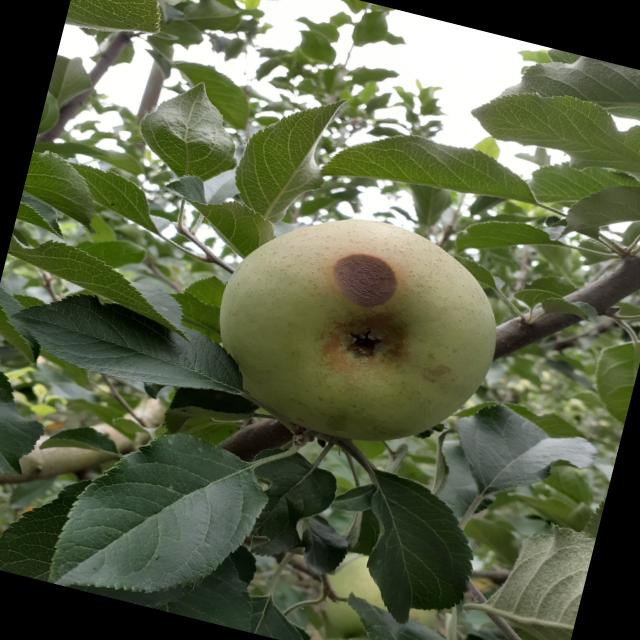rotten: (180, 179, 529, 489)
